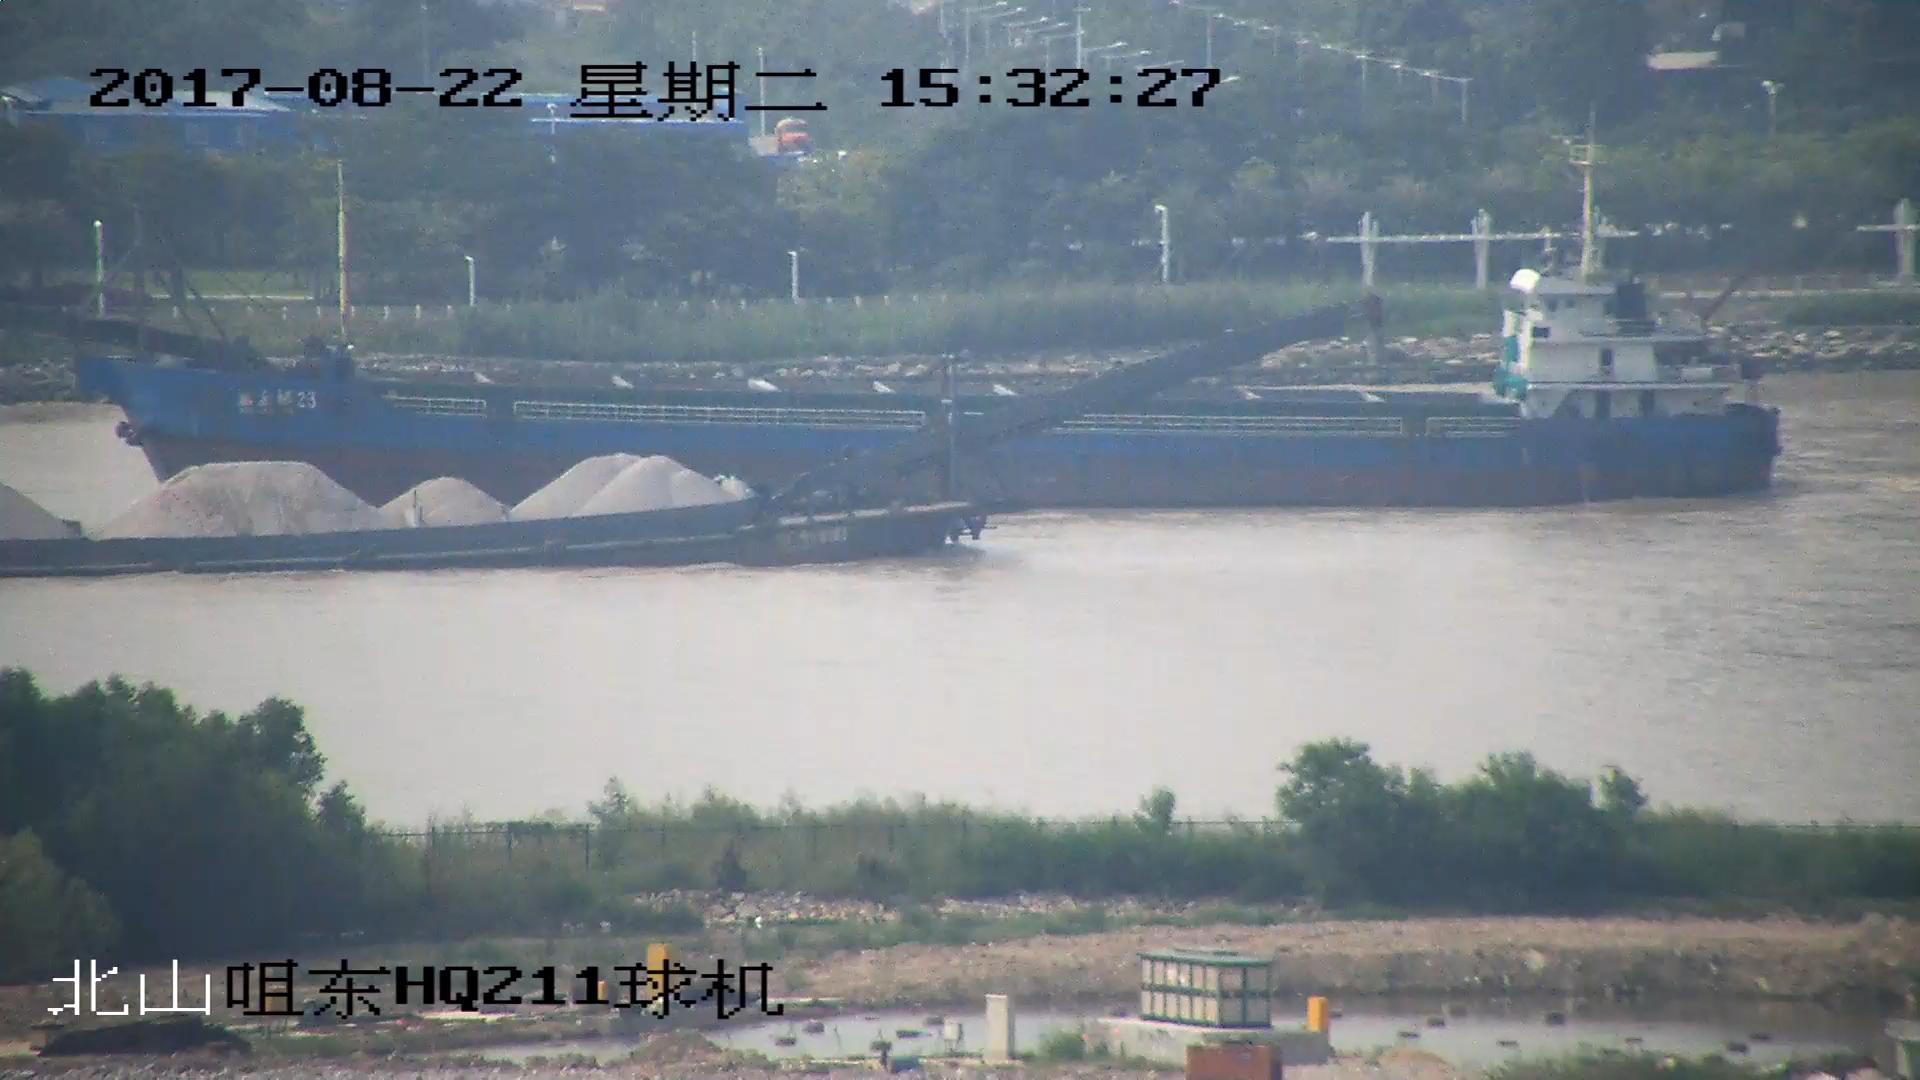bulk cargo carrier: (1, 134, 1793, 505)
ore carrier: (1, 301, 1378, 583)
